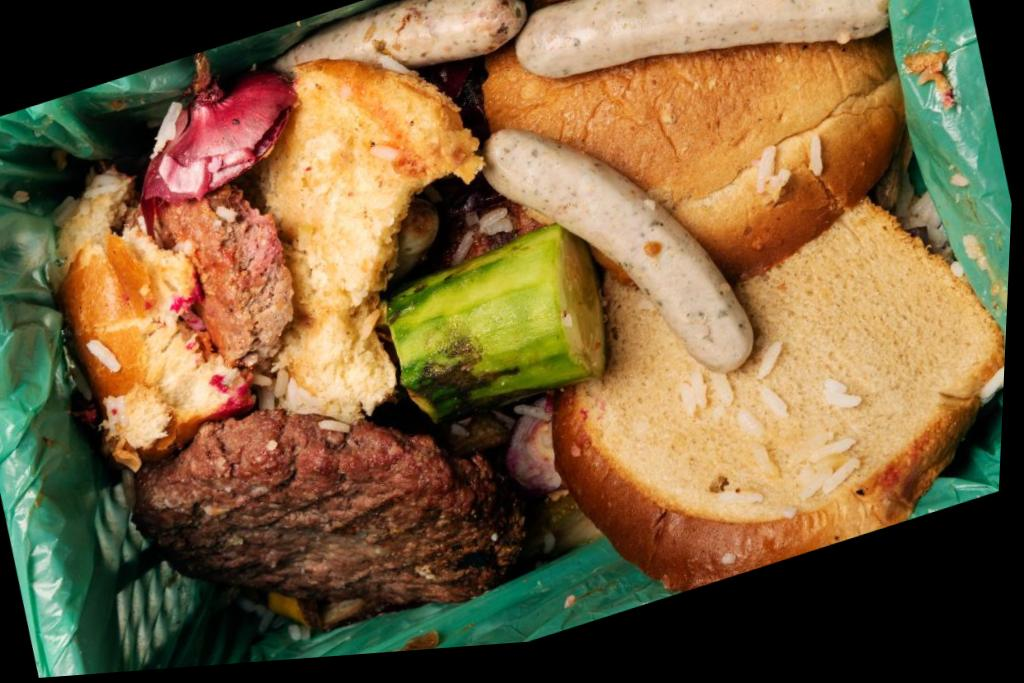organic: (486, 130, 1001, 587), (141, 0, 525, 422), (485, 0, 901, 369), (135, 408, 523, 665), (58, 171, 291, 468), (485, 129, 753, 371), (0, 273, 134, 675), (387, 213, 603, 419), (142, 183, 292, 369), (141, 55, 295, 232), (275, 0, 526, 71)
